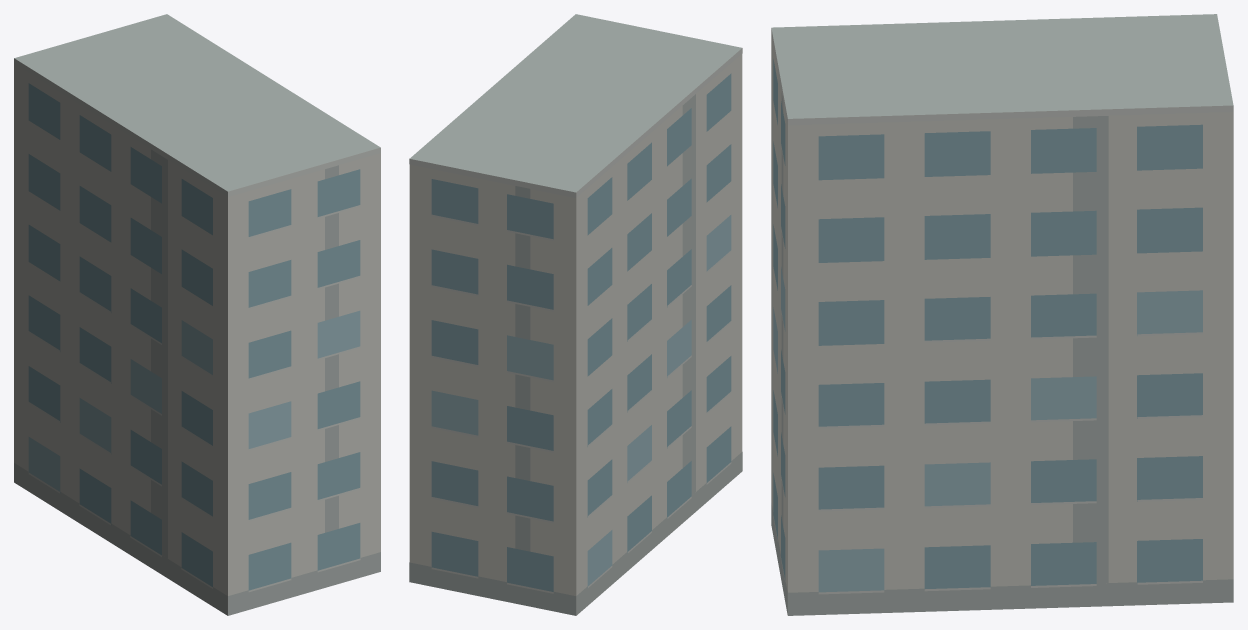
The model's file is survey-upis-32843786.glb.
3 views of the same model, side by side, from view 1: azimuth 30°, elevation 25°; view 2: azimuth 150°, elevation 25°; view 3: azimuth 270°, elevation 25° (orthographic). The views are drawn at different scales.
Visible parts, largest first — view 1: survey-upis-32843786.tmp; view 2: survey-upis-32843786.tmp; view 3: survey-upis-32843786.tmp.
Part boxes in pixels (<box>): survey-upis-32843786.tmp: <box>14,14,380,615</box>; survey-upis-32843786.tmp: <box>409,14,742,615</box>; survey-upis-32843786.tmp: <box>771,14,1233,615</box>.
Bounding box in the file's own units: 8.34 × 18.4 × 15.52.
